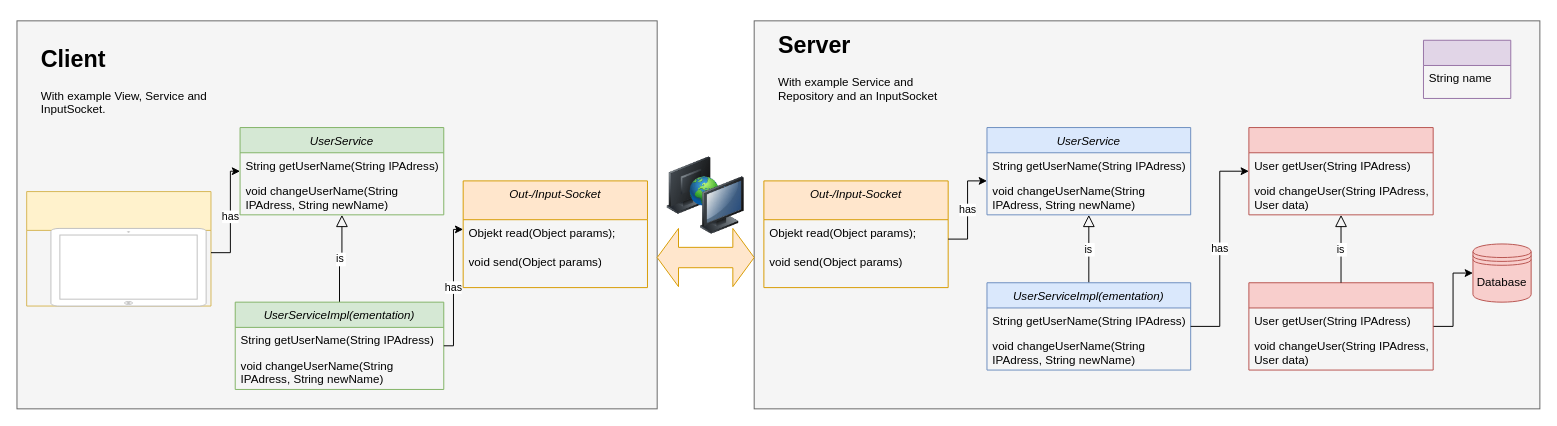
This 1557x426 diagram has some shape labels left out. Here are the shapes that lost their labels. From the top down, the box of each, then its label:
(1423, 39, 1511, 98): User
(1248, 127, 1433, 215): UserRepository
(26, 191, 211, 306): UserName View
(1248, 282, 1433, 370): UserRepositoryImpl
